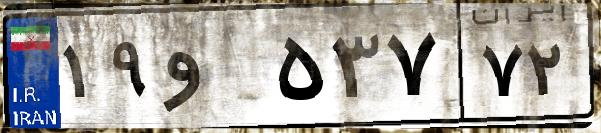1: (57, 26, 110, 100)
2: (525, 38, 570, 115)
3: (330, 28, 385, 110)
5: (270, 28, 330, 110)
7: (385, 28, 445, 110), (475, 38, 525, 113)
9: (110, 28, 158, 98)
و: (158, 20, 270, 120)
